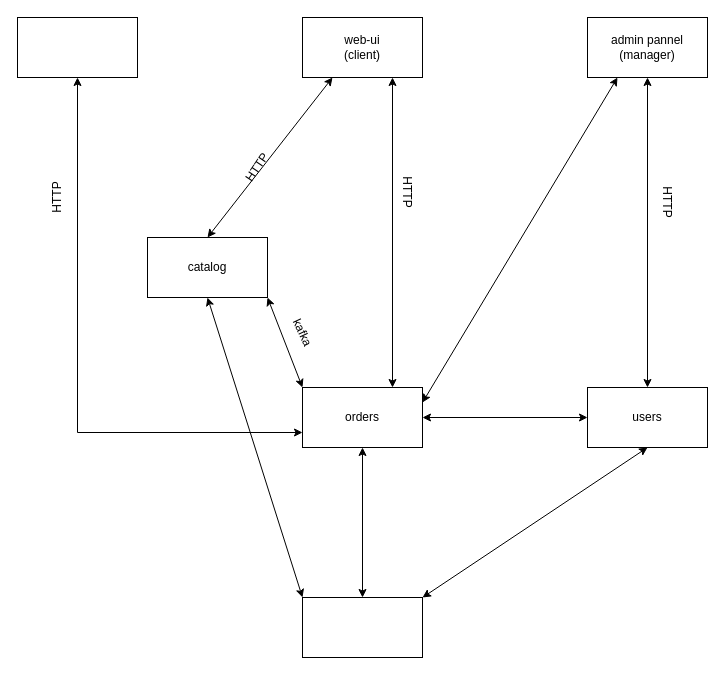
This 725x675 diagram has some shape labels left out. The shapes that lost their labels are listed below. From the top down, each one's centre as x and y in pixels, then its label:
the point at 77,47: mobile (courier)
the point at 362,627: storage (postgres)
